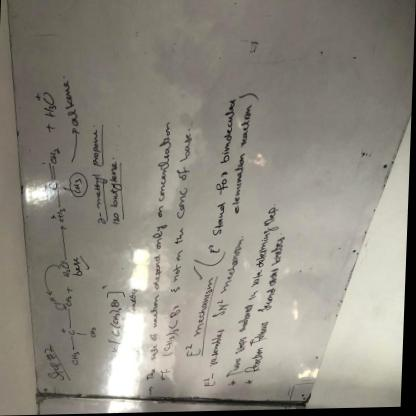Handwritten text: (137, 117, 176, 387), (225, 202, 281, 387), (244, 234, 288, 384), (164, 128, 197, 287), (208, 92, 240, 243), (223, 100, 258, 219), (190, 274, 219, 344)
Whiteboard: (5, 0, 414, 408)
